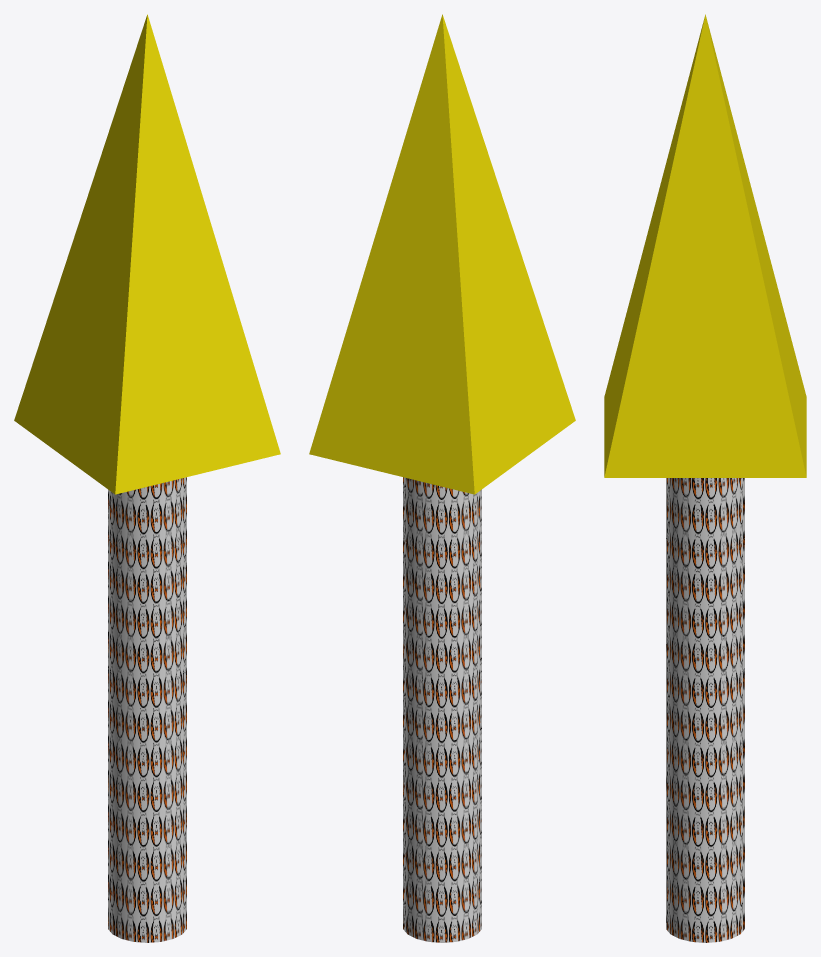
Rendered from symbolTreeYellow.FBX.
3 renders of one model, left to right at view 1: azimuth 30°, elevation 25°; view 2: azimuth 150°, elevation 25°; view 3: azimuth 270°, elevation 25°, orthographic.
Visible parts, largest first — view 1: Pyramid001, Cylinder001; view 2: Pyramid001, Cylinder001; view 3: Pyramid001, Cylinder001.
Part boxes in pixels (x1,y1,x2,y2): Pyramid001: (14, 14, 280, 494); Cylinder001: (108, 477, 186, 942); Pyramid001: (309, 14, 575, 494); Cylinder001: (403, 477, 481, 942); Pyramid001: (604, 14, 806, 477); Cylinder001: (666, 478, 744, 942).
Bounding box in the file's own units: 536 × 567 × 2819.
2 materials, 2 textured.
